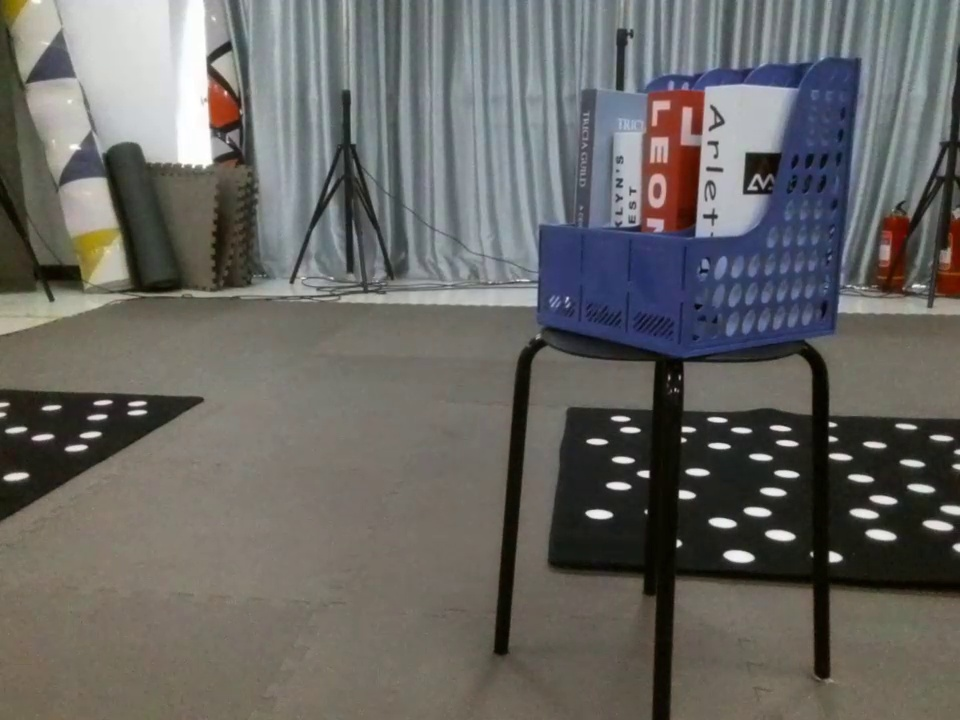files: (528, 58, 867, 361)
